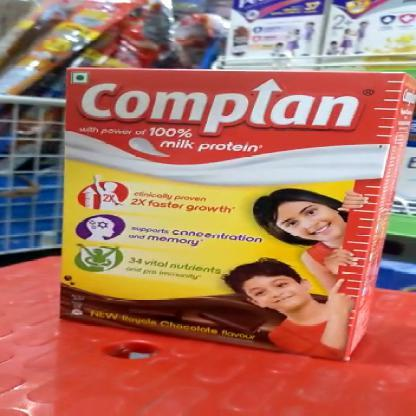Complan Royal Chocolate: (60, 68, 409, 361)
